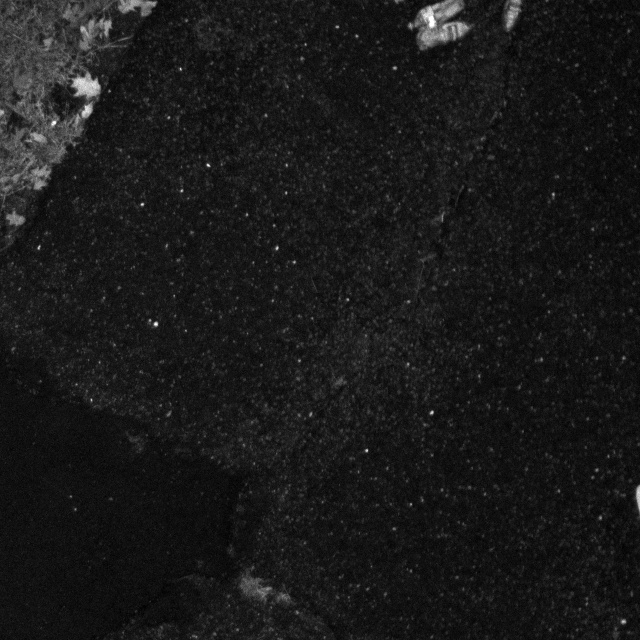bottle: (410, 11, 472, 56)
